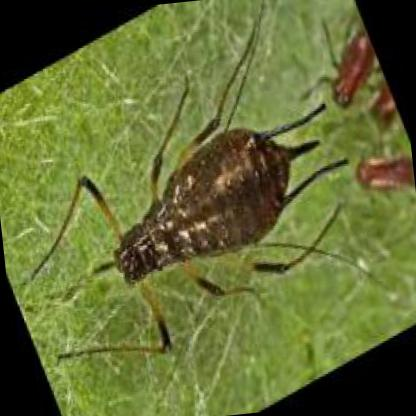uroleucon compositae: (82, 72, 348, 353)
